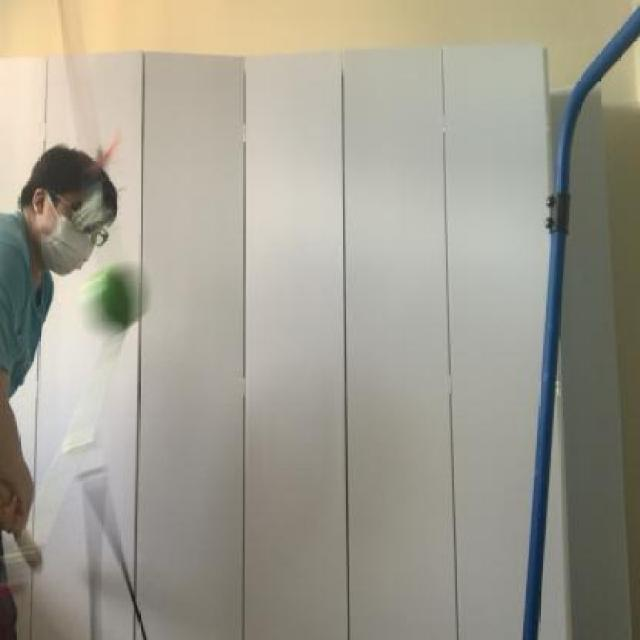baseball: (82, 262, 153, 348)
